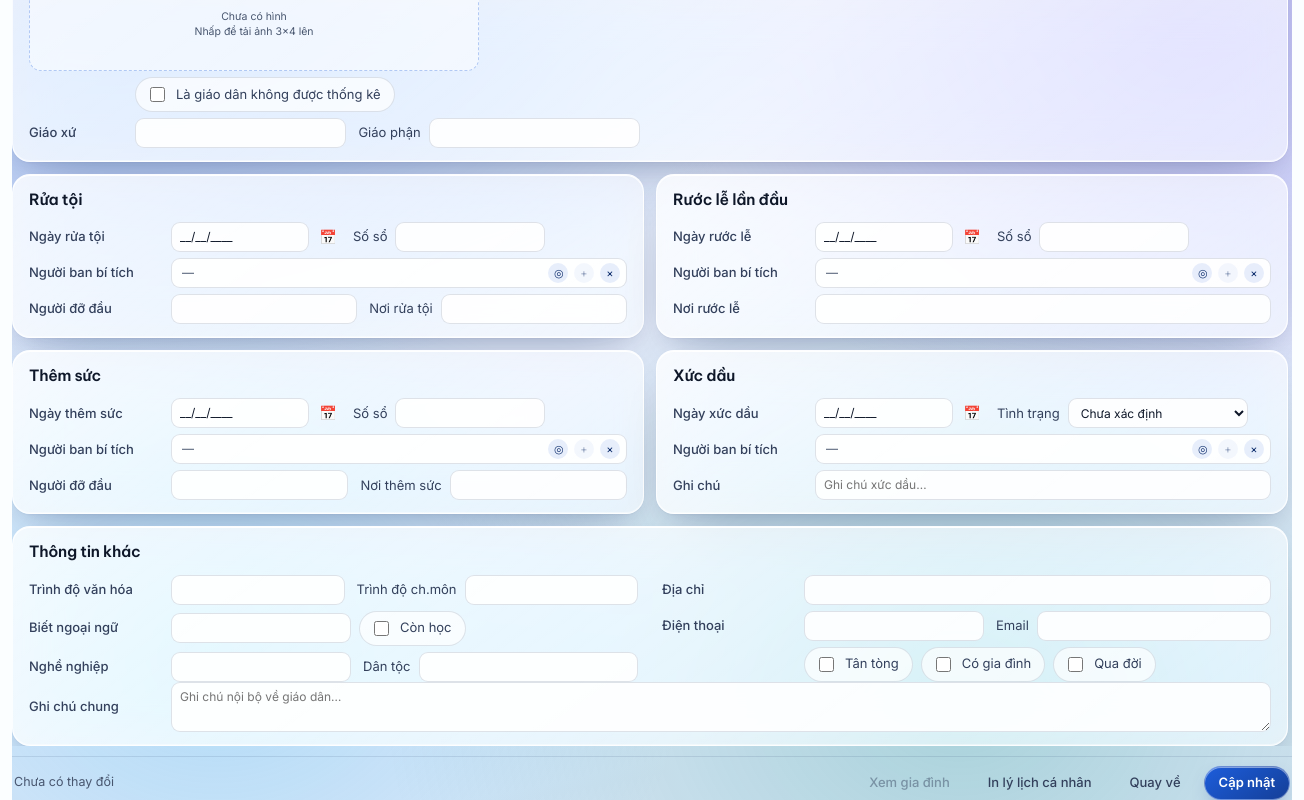
it: GiaoDanDetailPage › xung dot RowVersion (409) hien thong bao tieng Viet
(page scrolled)
Click the button "Cập nhật". click: (1247, 782)
box: [1204,766,1290,799]
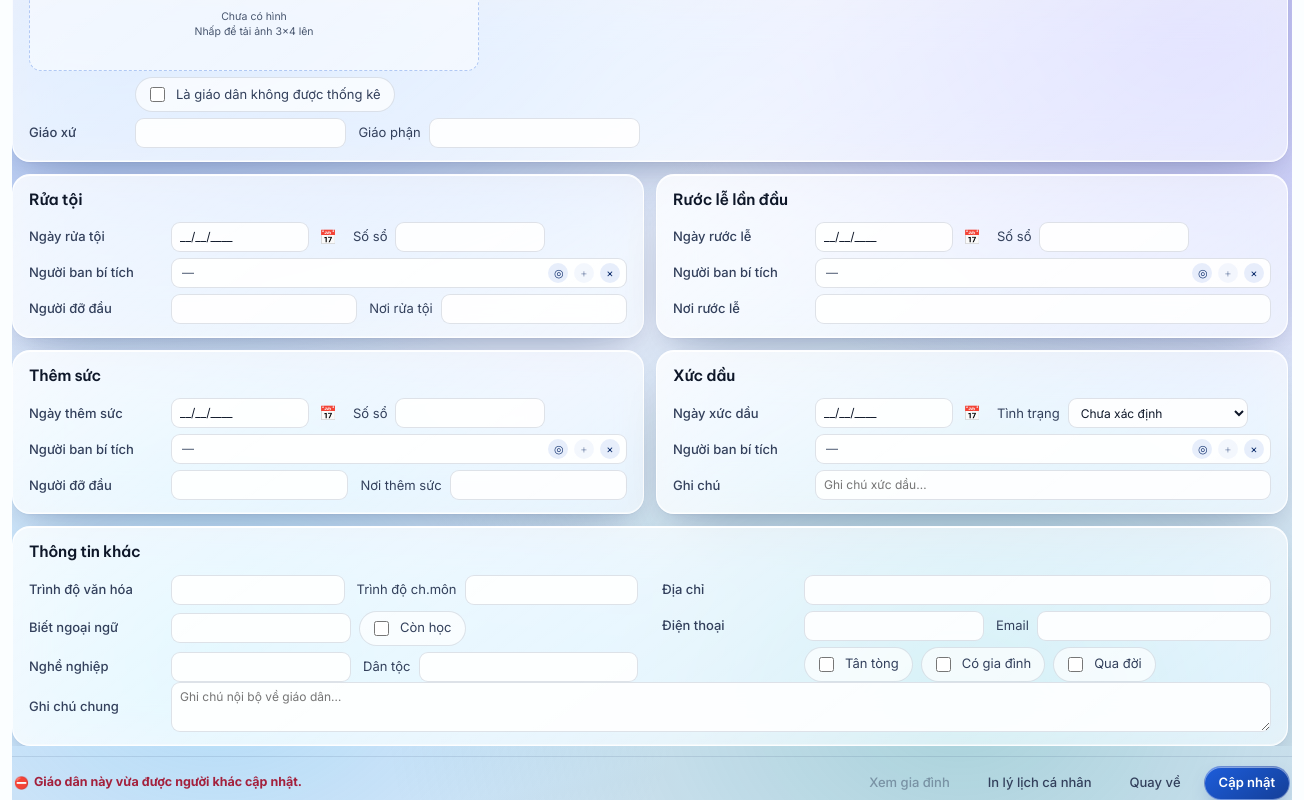
Now the text "Giáo dân này vừa được người khác cập nhật." is shown, box [14,773,302,792]
